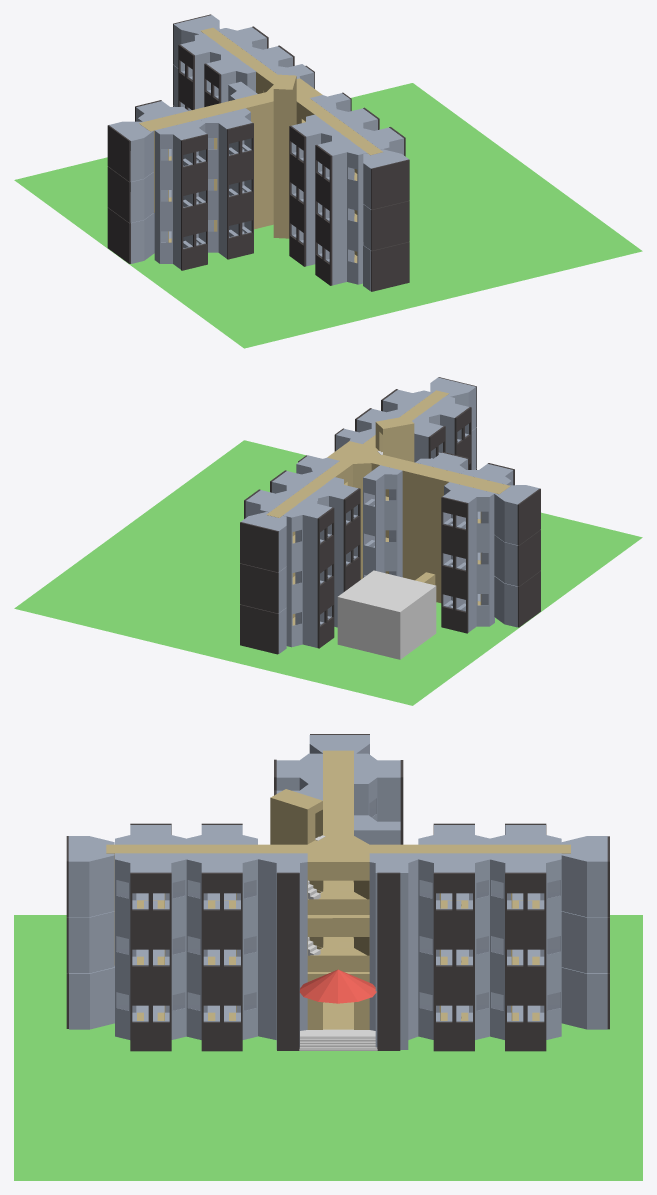
The model's file is boysHostel.glb.
3 renders of one model, top to bottom at view 1: azimuth 30°, elevation 25°; view 2: azimuth 150°, elevation 25°; view 3: azimuth 270°, elevation 25°, orthographic. The views are drawn at different scales.
Parts seen in each view (by area): view 1: Plane, f2, room.028, room.027, f1, room.032, fg, Cube.046, Cube, Cube.045, room.007, room.006 (+38 smaller); view 2: Plane, f2, mess, room.025, room.029, f1, room.035, Cube.047, room.034, room.004, Cube.042, Cube.002 (+34 smaller); view 3: Plane, f2, f1, bathrooms.007, bathrooms.008, room.021, room.022, room.024, room.023, room.029, bathrooms.004, bathrooms.003 (+44 smaller).
Boxes of the visible parts, box(x1,y1,x2,y2) form: Plane: box(14, 83, 642, 348); f2: box(139, 27, 382, 180); room.028: box(317, 134, 366, 196); room.027: box(154, 119, 206, 180); f1: box(154, 142, 357, 221); room.032: box(200, 108, 252, 169); fg: box(168, 183, 357, 262); Cube.046: box(371, 159, 409, 209); Cube: box(371, 242, 409, 291); Cube.045: box(371, 200, 409, 250); room.007: box(317, 234, 363, 285); room.006: box(154, 213, 205, 269); Plane: box(14, 440, 642, 705); f2: box(266, 390, 510, 543); mess: box(337, 570, 436, 659); room.025: box(283, 496, 331, 559); room.029: box(442, 482, 494, 543); f1: box(292, 504, 481, 584); room.035: box(363, 465, 402, 521); Cube.047: box(240, 522, 278, 572); room.034: box(363, 512, 402, 562); room.004: box(286, 597, 331, 647); Cube.042: box(240, 563, 278, 613); Cube.002: box(240, 604, 278, 654); Plane: box(14, 915, 642, 1180); f2: box(106, 750, 570, 921); f1: box(114, 890, 539, 976); bathrooms.007: box(68, 836, 114, 917); bathrooms.008: box(561, 836, 607, 917); room.021: box(186, 853, 257, 918); room.022: box(115, 853, 186, 918); room.024: box(490, 853, 561, 918); room.023: box(418, 853, 490, 918); room.029: box(354, 753, 400, 821); bathrooms.004: box(68, 911, 114, 973); bathrooms.003: box(561, 911, 607, 973).
Size of the model in its own units: 41.27 by 15.37 by 40.62.
